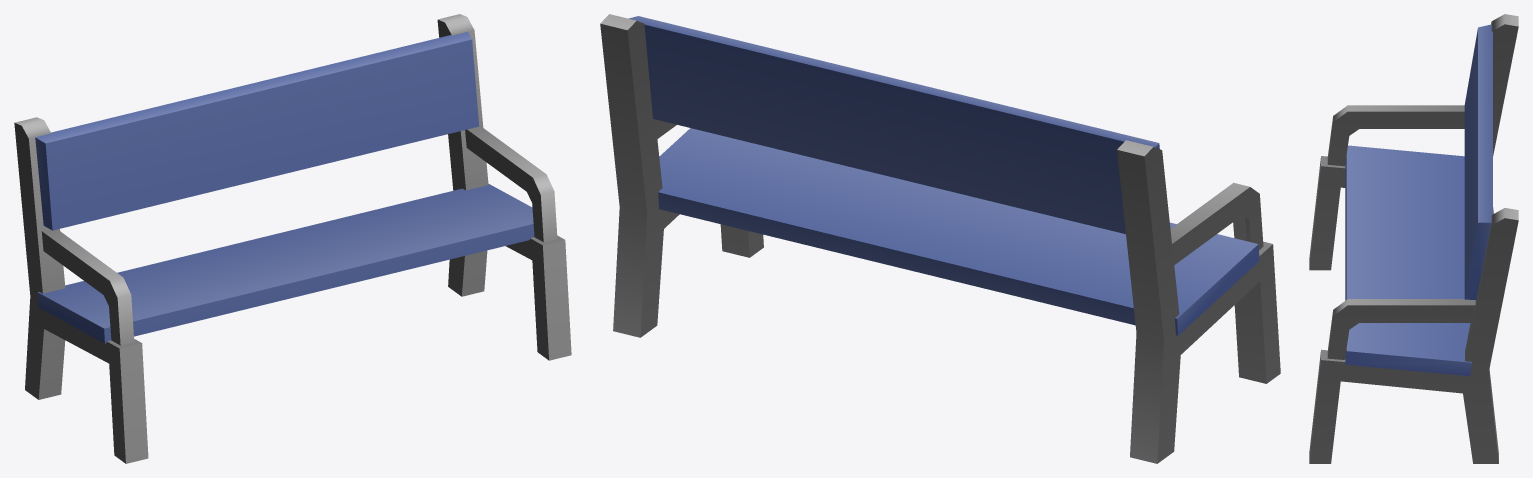
The model's file is Bench_Blue.fbx.
3 views of the same model, side by side, from view 1: azimuth 30°, elevation 25°; view 2: azimuth 150°, elevation 25°; view 3: azimuth 270°, elevation 25° (orthographic). The views are drawn at different scales.
Visible parts, largest first — view 1: Bench_Blue; view 2: Bench_Blue; view 3: Bench_Blue.
Part boxes in pixels (x1,y1,x2,y2): Bench_Blue: [14, 14, 571, 463]; Bench_Blue: [600, 14, 1280, 463]; Bench_Blue: [1309, 14, 1518, 463].
Bounding box in the file's own units: 173 × 96.23 × 74.34.
